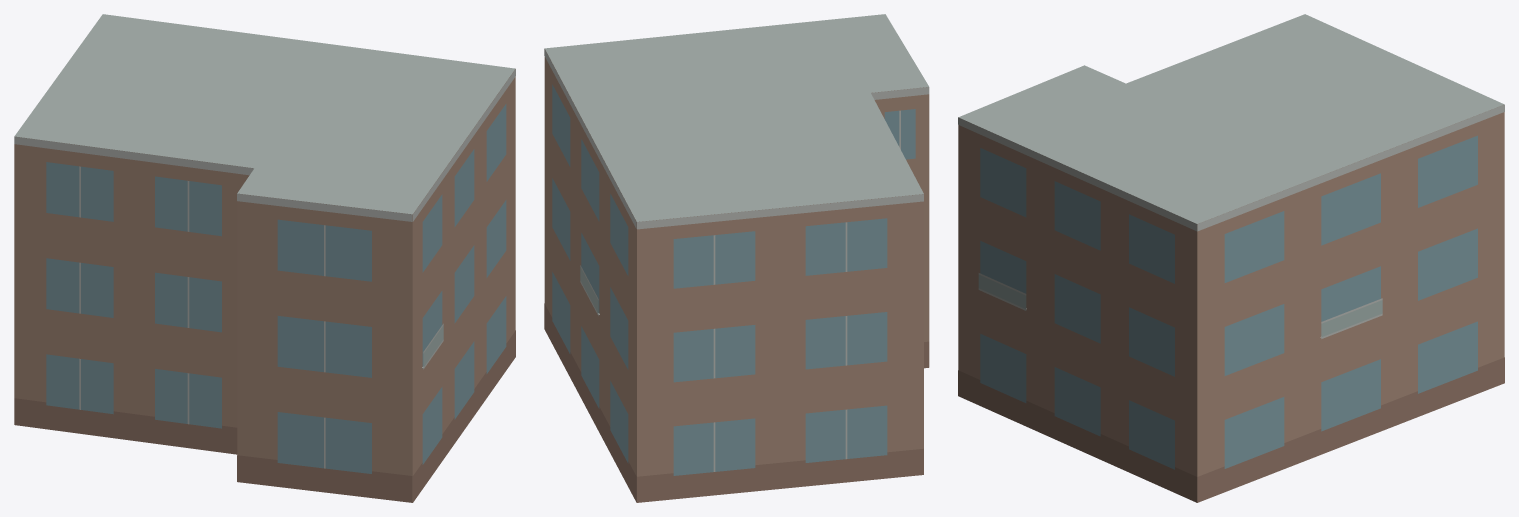
Rendered from survey-upis-32907201.glb.
3 views of the same model, side by side, from view 1: azimuth 30°, elevation 25°; view 2: azimuth 150°, elevation 25°; view 3: azimuth 270°, elevation 25° (orthographic). The views are drawn at different scales.
Visible parts, largest first — view 1: survey-upis-32907201.tmp; view 2: survey-upis-32907201.tmp; view 3: survey-upis-32907201.tmp.
Part boxes in pixels (x1,y1,x2,y2): survey-upis-32907201.tmp: (14, 14, 515, 502); survey-upis-32907201.tmp: (544, 14, 929, 502); survey-upis-32907201.tmp: (958, 14, 1504, 502).
Bounding box in the file's own units: 14.8 × 9.15 × 16.26.
